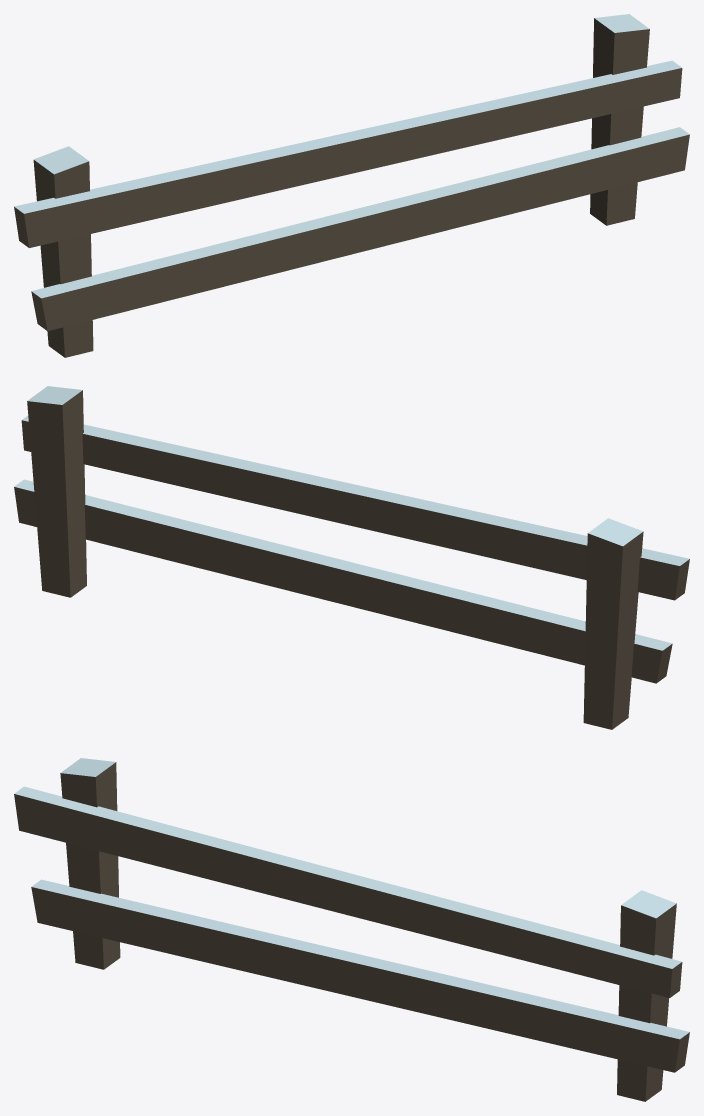
Rendered from SM_Prop_Western_Fence_01_Snow.fbx.
The picture shows the model from 3 angles, top to bottom: view 1: azimuth 30°, elevation 25°; view 2: azimuth 150°, elevation 25°; view 3: azimuth 330°, elevation 25°; orthographic projection.
Parts seen in each view (by area): view 1: SM_Prop_Western_Fence_01_Snow; view 2: SM_Prop_Western_Fence_01_Snow; view 3: SM_Prop_Western_Fence_01_Snow.
Part boxes in pixels (<box>): SM_Prop_Western_Fence_01_Snow: <box>14,14,689,357</box>; SM_Prop_Western_Fence_01_Snow: <box>14,386,689,729</box>; SM_Prop_Western_Fence_01_Snow: <box>14,758,689,1101</box>.
Bounding box in the file's own units: 105 × 29.05 × 7.85.
Materials: 1 (1 with a texture image).
